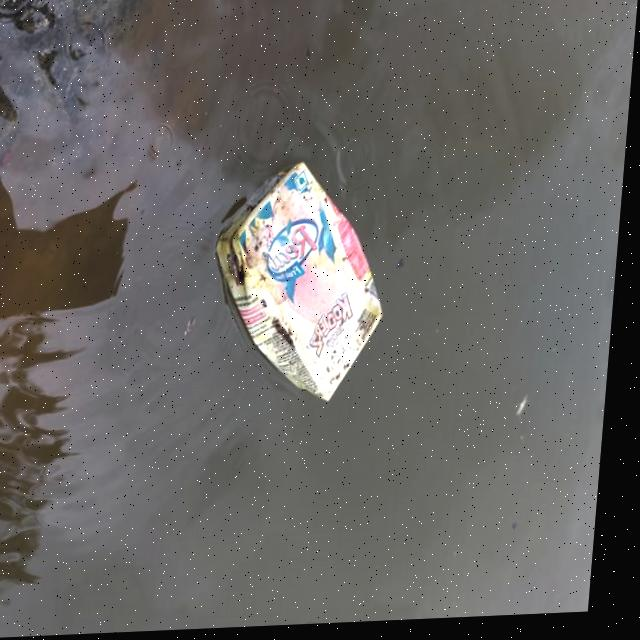paper: (198, 149, 410, 422)
